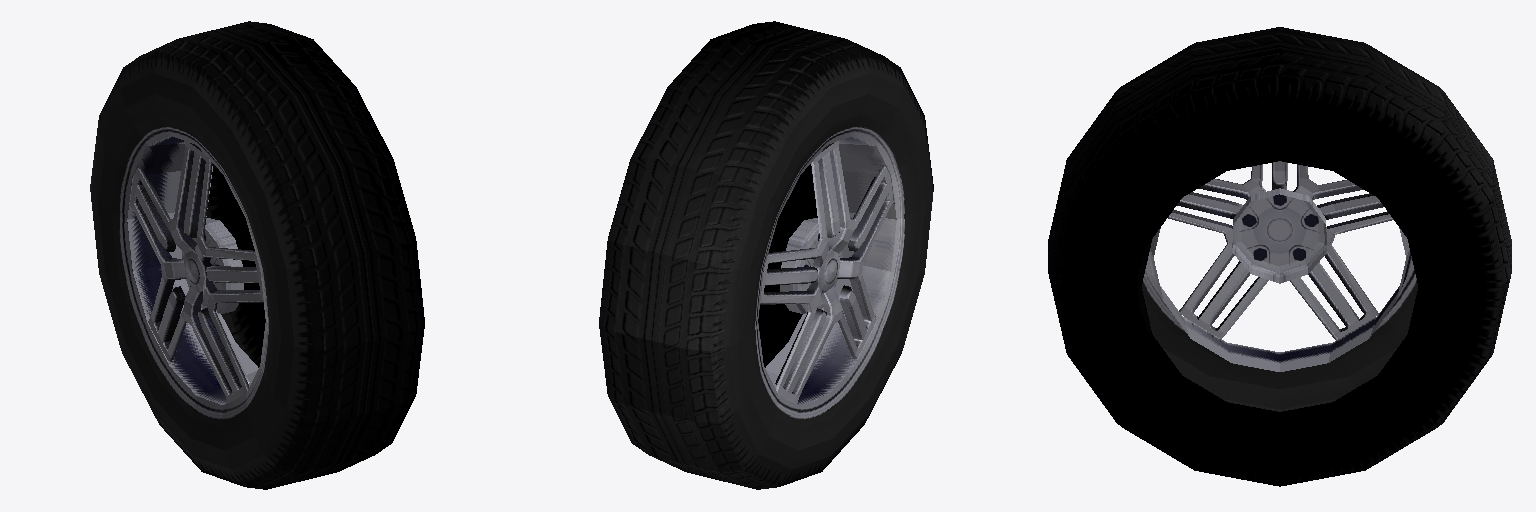
3 views of the same model, side by side, from view 1: azimuth 30°, elevation 25°; view 2: azimuth 150°, elevation 25°; view 3: azimuth 270°, elevation 25° (orthographic).
Parts seen in each view (by area): view 1: wheels_n_acc; view 2: wheels_n_acc; view 3: wheels_n_acc.
Part boxes in pixels (left/top/right/bottom): wheels_n_acc: left=90, top=21, right=424, bottom=489; wheels_n_acc: left=599, top=21, right=933, bottom=489; wheels_n_acc: left=1048, top=27, right=1511, bottom=486.
Size of the model in its own units: 3.51 by 10.12 by 10.12.
Materials: 1 (1 with a texture image).